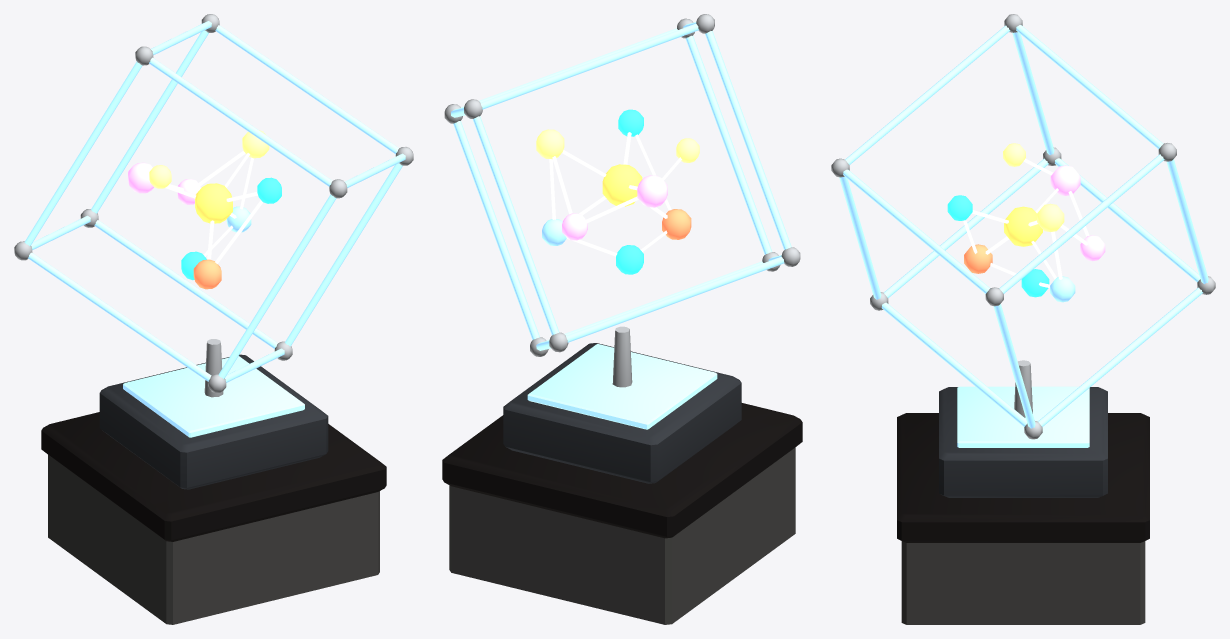
The model's file is prop_embedding_cube.glb.
3 views of the same model, side by side, from view 1: azimuth 30°, elevation 25°; view 2: azimuth 150°, elevation 25°; view 3: azimuth 270°, elevation 25° (orthographic). The views are drawn at different scales.
Parts seen in each view (by area): view 1: body, embedding_core; view 2: body, embedding_core; view 3: body, embedding_core.
Boxes of the visible parts, x1=… form: body: x1=14, y1=14, x2=413, y2=624; embedding_core: x1=128, y1=130, x2=281, y2=289; body: x1=442, y1=14, x2=802, y2=624; embedding_core: x1=536, y1=109, x2=699, y2=274; body: x1=831, y1=14, x2=1215, y2=624; embedding_core: x1=947, y1=143, x2=1105, y2=302.
Bounding box in the file's own units: 6.97 × 9.57 × 6.38.
